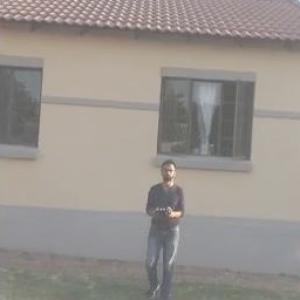follow: (136, 150, 184, 299)
